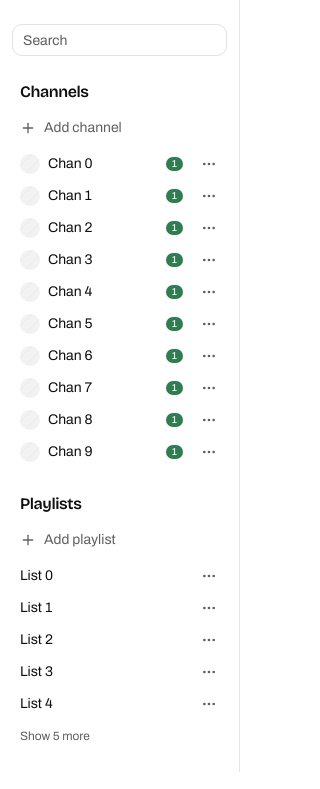
Sidebar › offers search only above the threshold and filters both sections
Type "List 3" into the search field named "Search channels and playlists".
click(120, 40); type("List 3")  # box [12, 24, 227, 56]
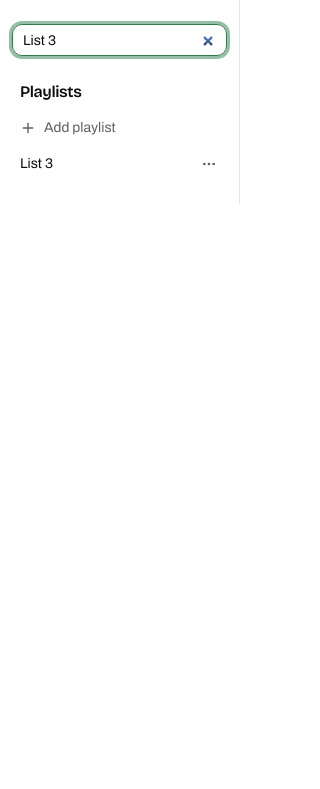
Check: the text "List 3" is shown, box [20, 156, 53, 171]
Check: the link "Chan 3" is gone
Check: the heading "Channels" is gone
